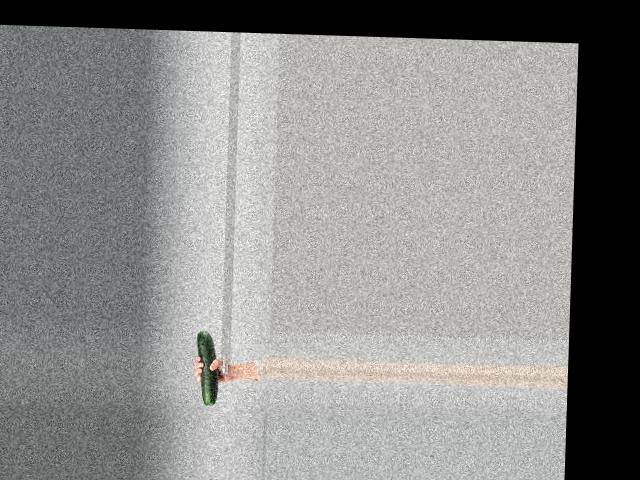cucumber: (194, 330, 219, 404)
